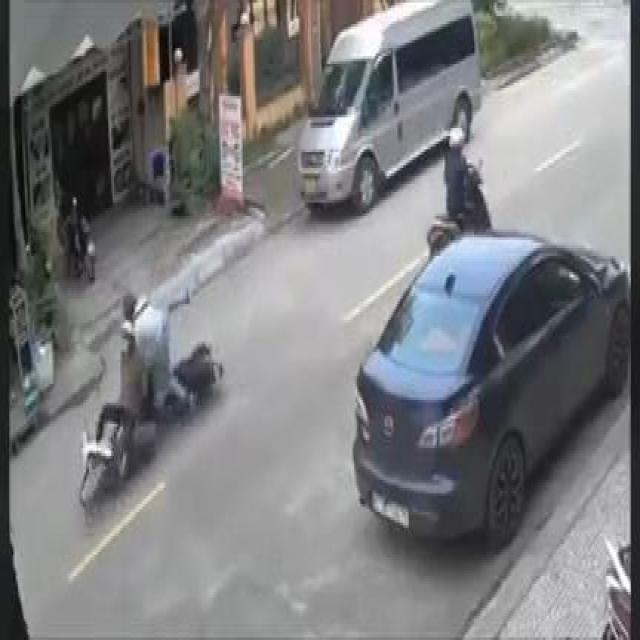accident: (73, 254, 229, 526)
